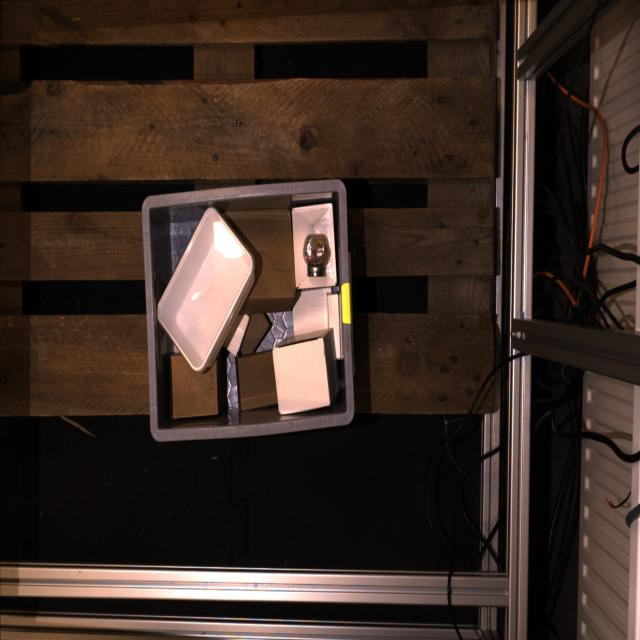CardboardBox: (223, 208, 295, 314), (273, 329, 338, 414), (292, 204, 336, 289), (171, 355, 219, 418), (237, 350, 277, 410), (293, 287, 332, 338), (240, 314, 271, 354), (227, 314, 250, 356), (328, 294, 342, 359)
PlasticContainer: (157, 208, 255, 372)
SweetsJar: (303, 234, 330, 276)
